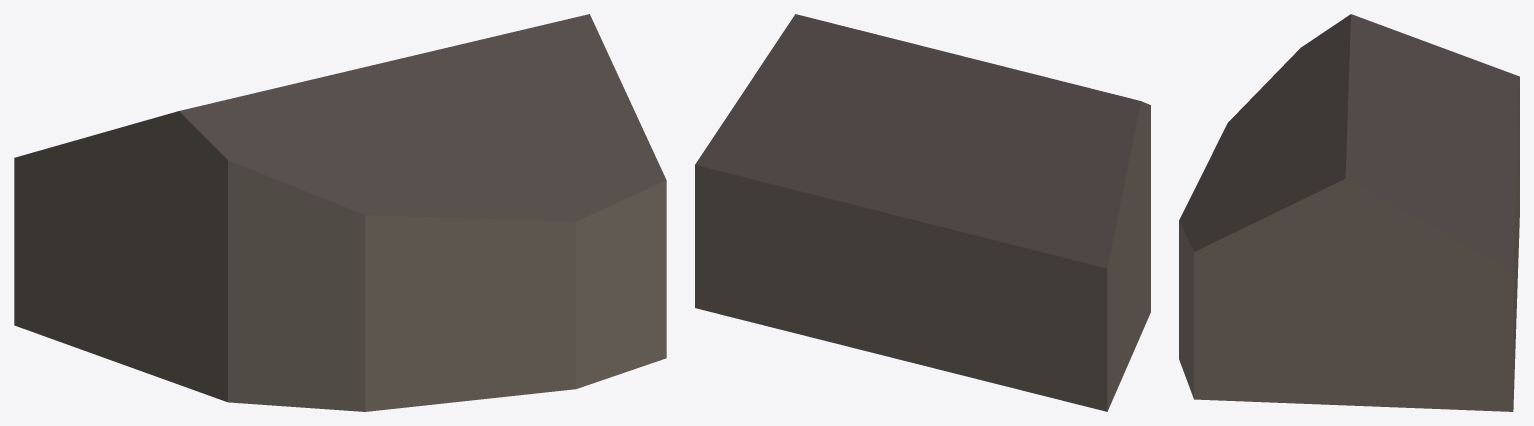
3 renders of one model, left to right at view 1: azimuth 30°, elevation 25°; view 2: azimuth 150°, elevation 25°; view 3: azimuth 270°, elevation 25°, orthographic. The views are drawn at different scales.
Parts seen in each view (by area): view 1: HP-w1198845834; view 2: HP-w1198845834; view 3: HP-w1198845834.
Part boxes in pixels (x1,y1,x2,y2): HP-w1198845834: [14, 14, 666, 411]; HP-w1198845834: [695, 14, 1150, 411]; HP-w1198845834: [1179, 14, 1519, 411].
Bounding box in the file's own units: 18.22 × 9.8 × 13.35.
